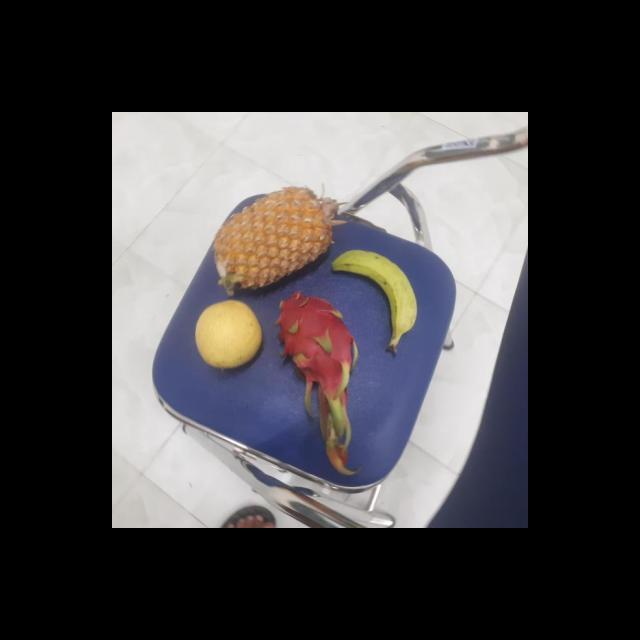banana: (327, 249, 418, 344)
guava: (192, 301, 262, 368)
pineapple: (212, 186, 334, 295)
pitaya: (268, 292, 356, 390)
